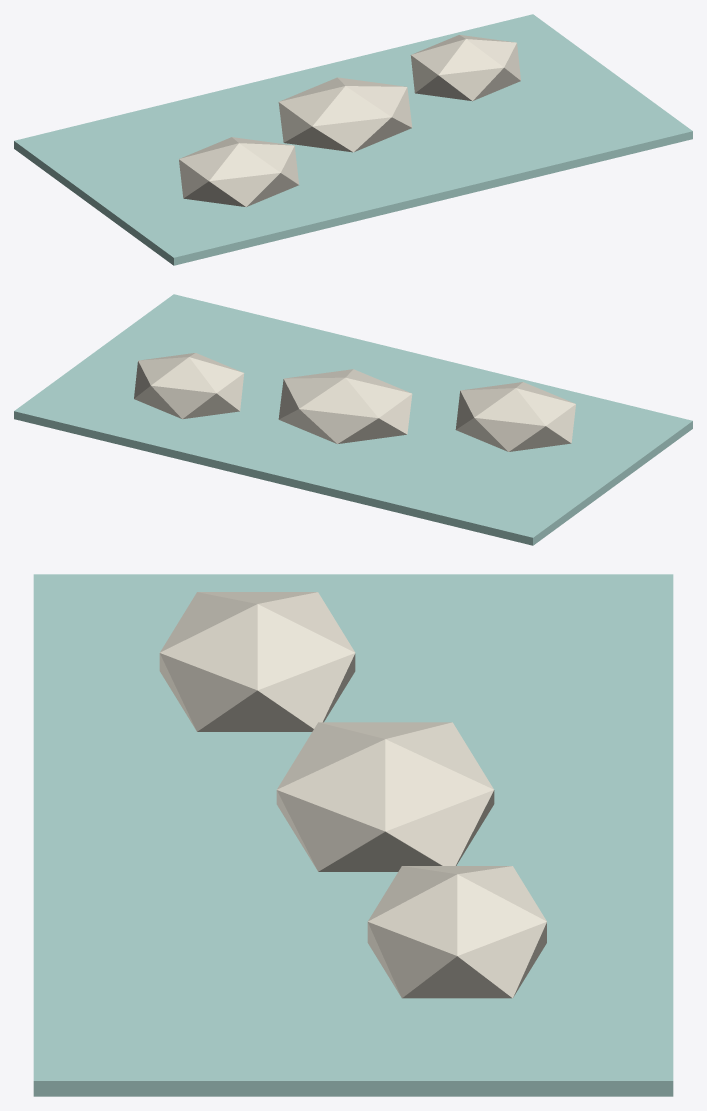
The model's file is three_stone_ford_far-DZCNF4Ox.glb.
The picture shows the model from 3 angles, top to bottom: view 1: azimuth 30°, elevation 25°; view 2: azimuth 150°, elevation 25°; view 3: azimuth 270°, elevation 25°; orthographic projection. The views are drawn at different scales.
Parts seen in each view (by area): view 1: three_stone_ford_far; view 2: three_stone_ford_far; view 3: three_stone_ford_far.
Part boxes in pixels (bbox=[...]): three_stone_ford_far: bbox=[14, 14, 692, 265]; three_stone_ford_far: bbox=[14, 294, 692, 545]; three_stone_ford_far: bbox=[33, 574, 673, 1096].
Bounding box in the file's own units: 15 × 1.6 × 8.
